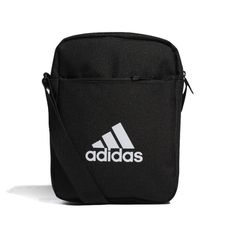adidas Originale: (84, 118, 145, 170)
